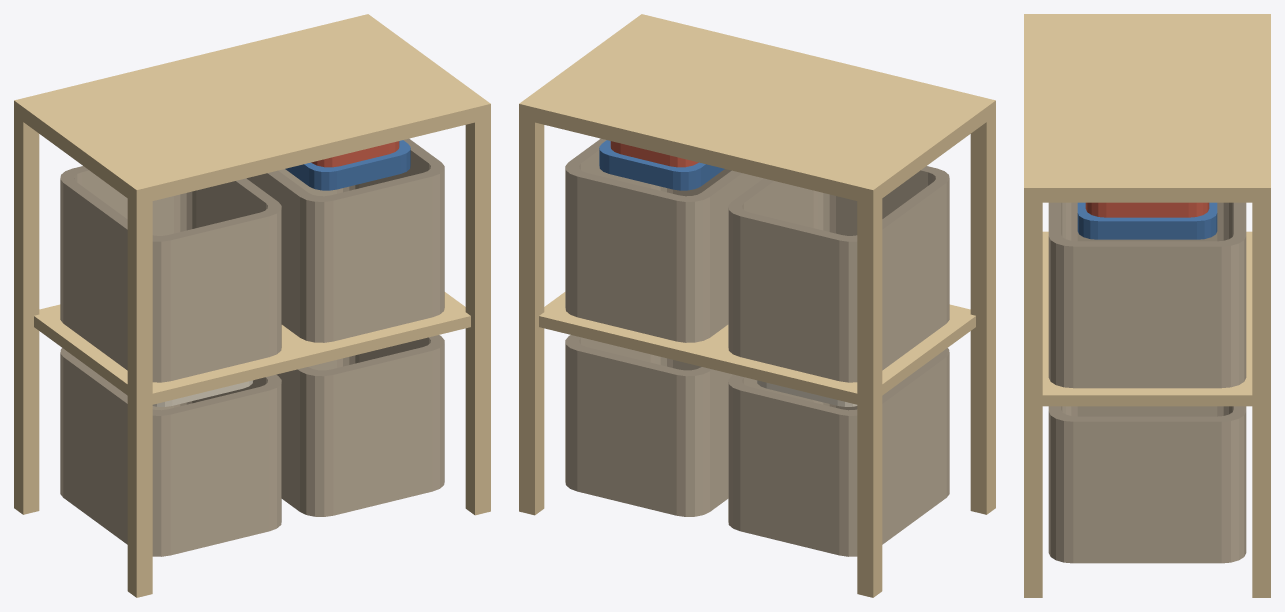
The model's file is laundry_basket.glb.
The picture shows the model from 3 angles, left to right: view 1: azimuth 30°, elevation 25°; view 2: azimuth 150°, elevation 25°; view 3: azimuth 270°, elevation 25°; orthographic projection.
Visible parts, largest first — view 1: laundry_basket_Body; view 2: laundry_basket_Body; view 3: laundry_basket_Body.
Part boxes in pixels (x1=…): laundry_basket_Body: x1=14, y1=14, x2=490, y2=597; laundry_basket_Body: x1=519, y1=14, x2=995, y2=597; laundry_basket_Body: x1=1024, y1=14, x2=1270, y2=597.
Bounding box in the file's own units: 1 × 1.1 × 0.6.
